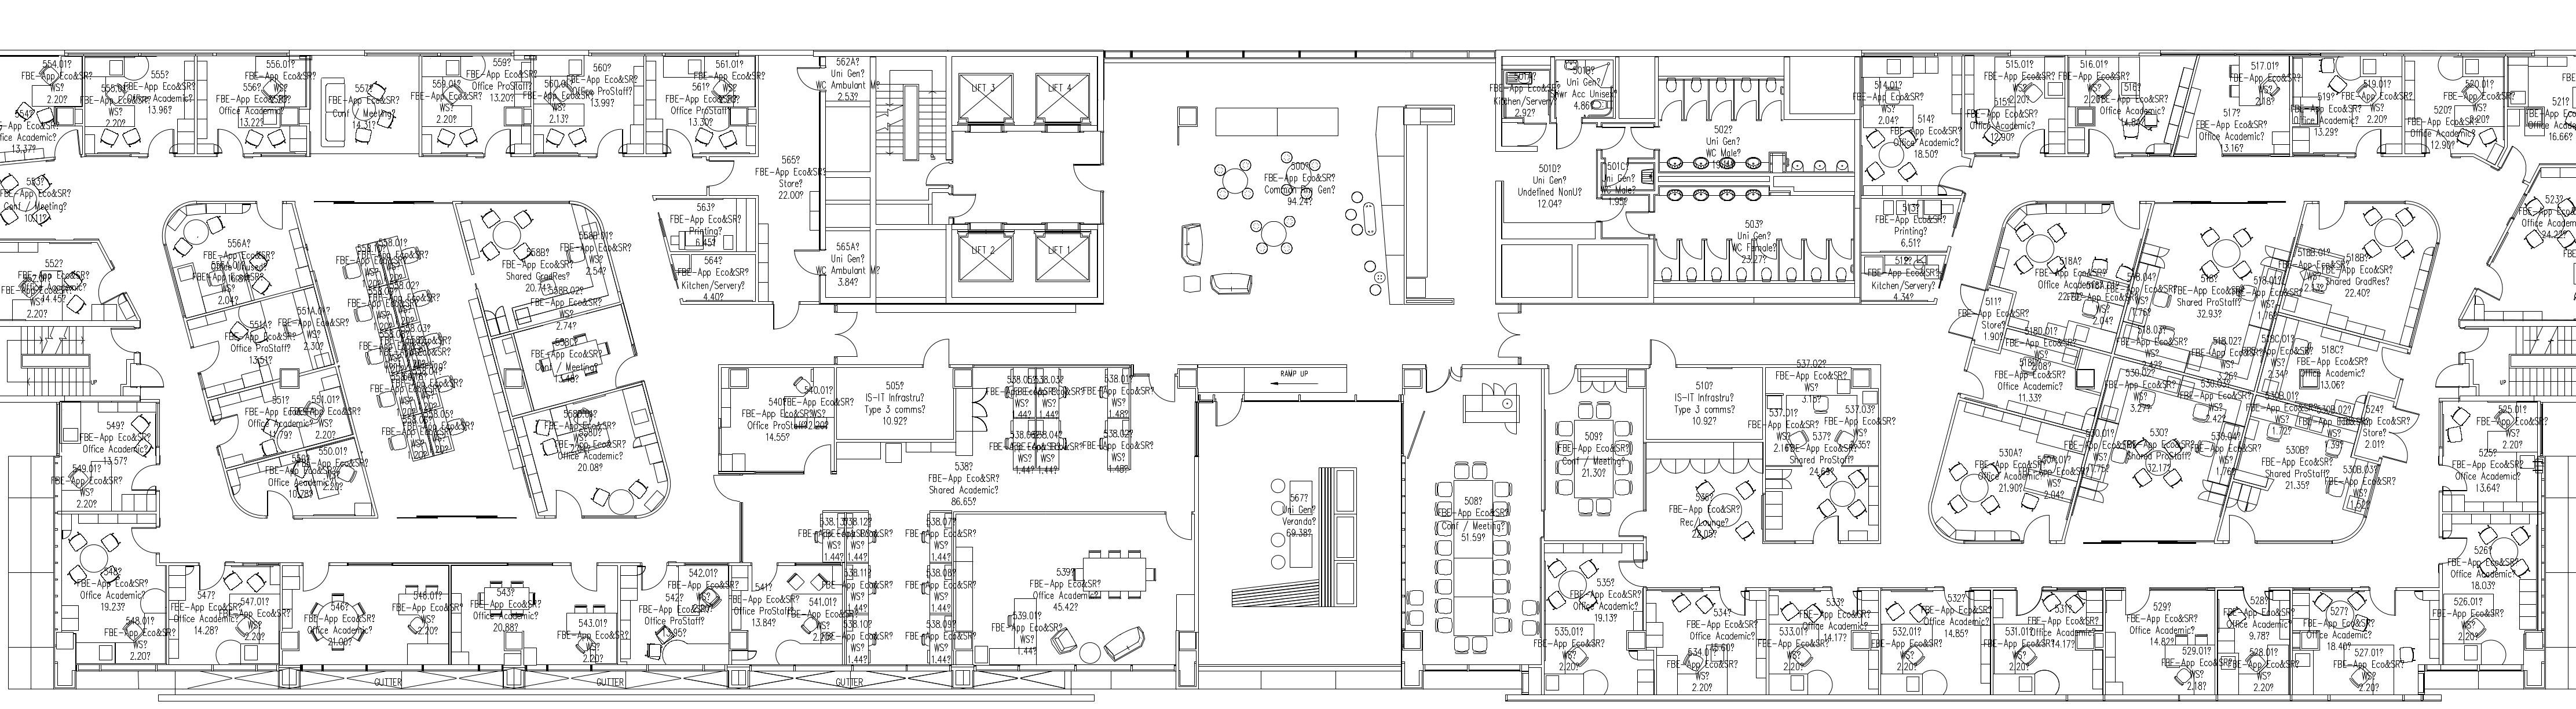room: (1111, 69, 1480, 326), (291, 201, 540, 521), (1198, 392, 1405, 689), (1400, 364, 1546, 693), (953, 510, 1196, 691), (1649, 184, 1861, 303), (452, 199, 624, 339), (951, 362, 1158, 475), (511, 380, 672, 520), (1654, 76, 1860, 179), (2458, 163, 2574, 327), (1541, 360, 1646, 541), (279, 563, 452, 671), (161, 201, 315, 321), (490, 301, 646, 419), (448, 563, 621, 670), (184, 283, 338, 401), (841, 510, 954, 670), (53, 513, 166, 671), (2290, 586, 2443, 702), (1541, 541, 1648, 702), (2438, 515, 2545, 671), (1855, 51, 1968, 196), (205, 362, 356, 470), (1764, 355, 1904, 467), (1643, 589, 1769, 701), (2065, 58, 2200, 161), (227, 434, 378, 523), (1766, 586, 1881, 701), (718, 364, 836, 475), (1991, 587, 2106, 701), (2170, 54, 2293, 160), (0, 237, 143, 327), (2103, 587, 2216, 701), (1879, 587, 1993, 701), (945, 224, 1104, 304), (166, 564, 283, 673), (835, 337, 954, 443), (1643, 339, 1766, 441), (532, 51, 646, 161), (2440, 398, 2546, 515), (2403, 54, 2507, 174), (728, 563, 844, 668), (616, 563, 729, 670), (53, 400, 159, 513), (2290, 56, 2405, 161), (1646, 454, 1761, 559), (419, 56, 534, 160), (197, 56, 310, 160), (84, 58, 197, 160), (644, 56, 759, 156), (310, 58, 424, 158), (1962, 53, 2068, 156), (953, 58, 1097, 132), (1759, 466, 1888, 548), (2504, 56, 2576, 186), (0, 58, 82, 166), (2215, 587, 2292, 702), (792, 225, 877, 304), (1551, 58, 1620, 153), (1497, 58, 1562, 155), (652, 196, 759, 253), (1860, 196, 1963, 255), (0, 166, 85, 237), (1597, 118, 1659, 212), (1860, 252, 1947, 306), (669, 252, 757, 304), (820, 51, 882, 107)
